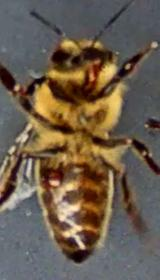varroa_mite: (38, 165, 72, 192)
